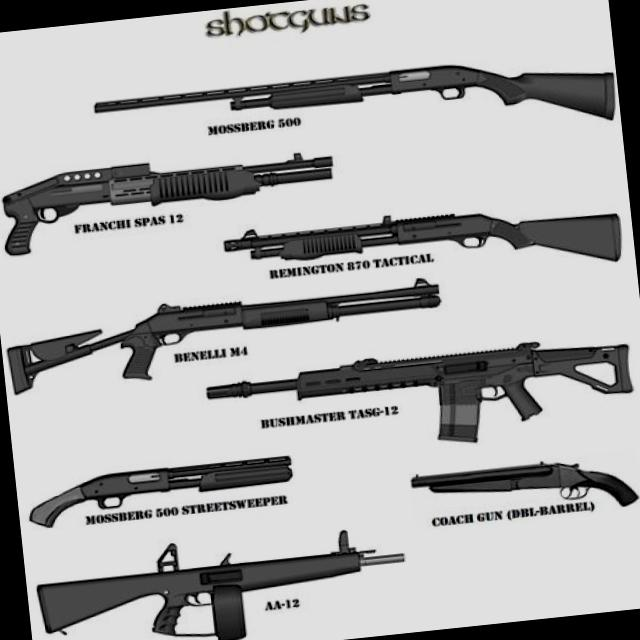long weapon: (50, 36, 619, 155), (5, 267, 438, 409), (201, 328, 640, 457), (7, 141, 351, 277), (31, 523, 419, 640), (217, 191, 619, 274), (29, 437, 315, 550), (385, 454, 640, 509)
